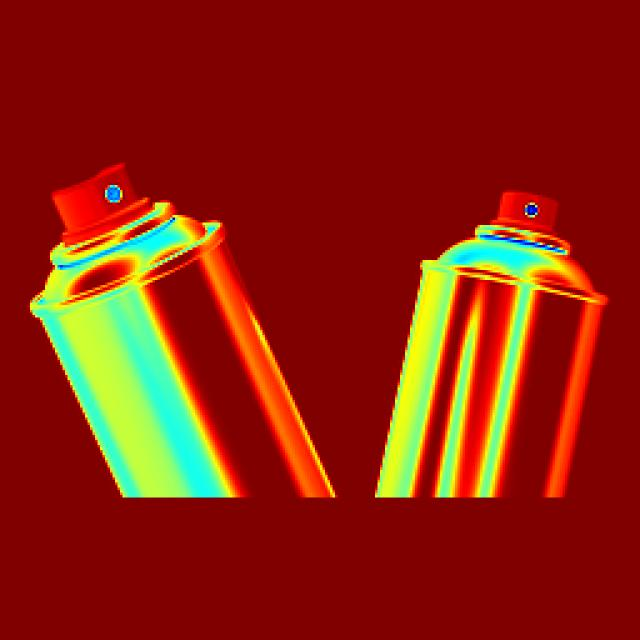Aerosol Cans: (37, 156, 341, 505), (364, 156, 608, 498)
